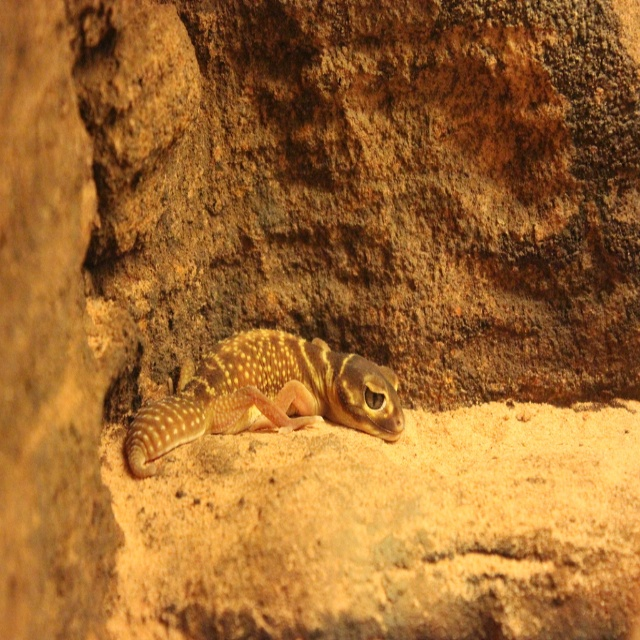Lizard: (121, 340, 393, 495)
